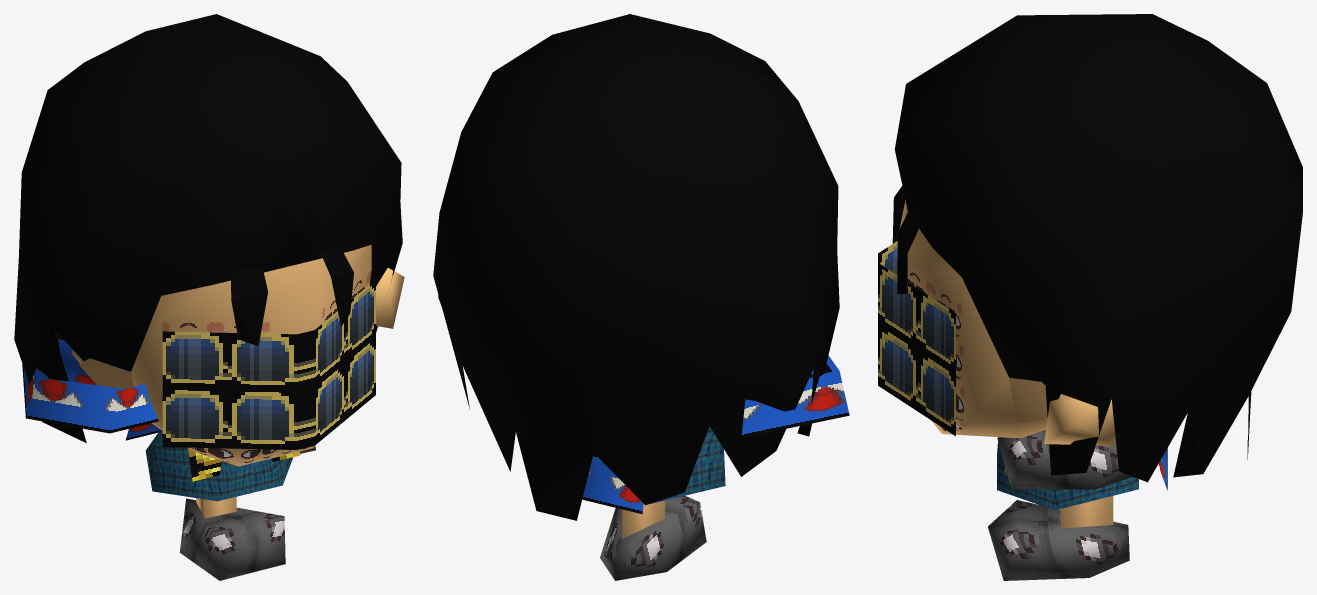
3 renders of one model, left to right at view 1: azimuth 30°, elevation 25°; view 2: azimuth 150°, elevation 25°; view 3: azimuth 270°, elevation 25°, orthographic. The views are drawn at different scales.
Visible parts, largest first — view 1: pmd48_00_04; view 2: pmd48_00_04; view 3: pmd48_00_04.
Boxes of the visible parts, x1,y1,x2,y2 form: pmd48_00_04: [14, 14, 404, 580]; pmd48_00_04: [433, 14, 849, 580]; pmd48_00_04: [878, 14, 1302, 580].
Bounding box in the file's own units: 1.18 × 1.46 × 1.06.
Materials: 8 (8 with a texture image).
